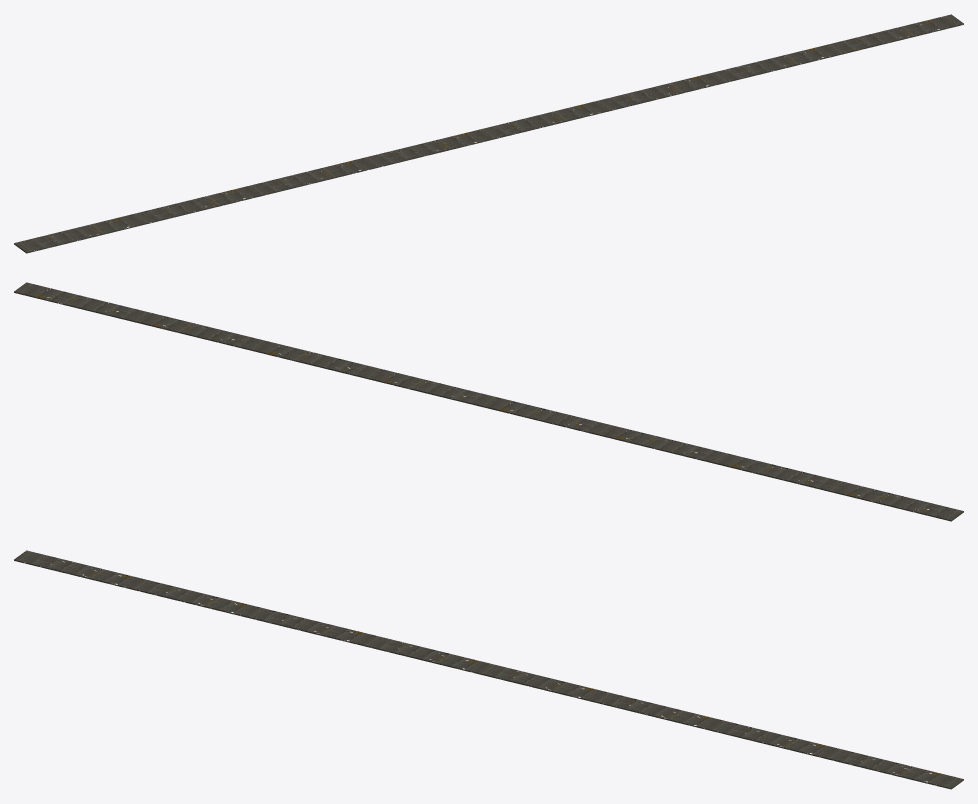
3 views of the same model, one above another, from view 1: azimuth 30°, elevation 25°; view 2: azimuth 150°, elevation 25°; view 3: azimuth 330°, elevation 25° (orthographic).
Visible parts, largest first — view 1: SM_Greathall_Roof_Fill_01_LOD0; view 2: SM_Greathall_Roof_Fill_01_LOD0; view 3: SM_Greathall_Roof_Fill_01_LOD0.
Part boxes in pixels (x1,y1,x2,y2): SM_Greathall_Roof_Fill_01_LOD0: (14,14,963,253); SM_Greathall_Roof_Fill_01_LOD0: (14,282,963,521); SM_Greathall_Roof_Fill_01_LOD0: (14,550,963,789).
Bounding box in the file's own units: 32.39 × 0.0415 × 0.7512.
1 material, 1 textured.
